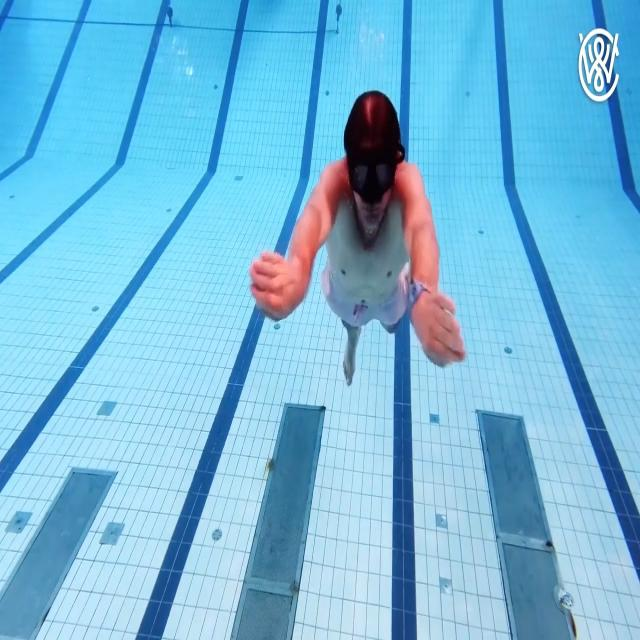Swimming: (248, 88, 468, 388)
